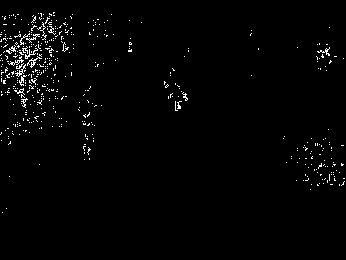person: (78, 84, 103, 162)
